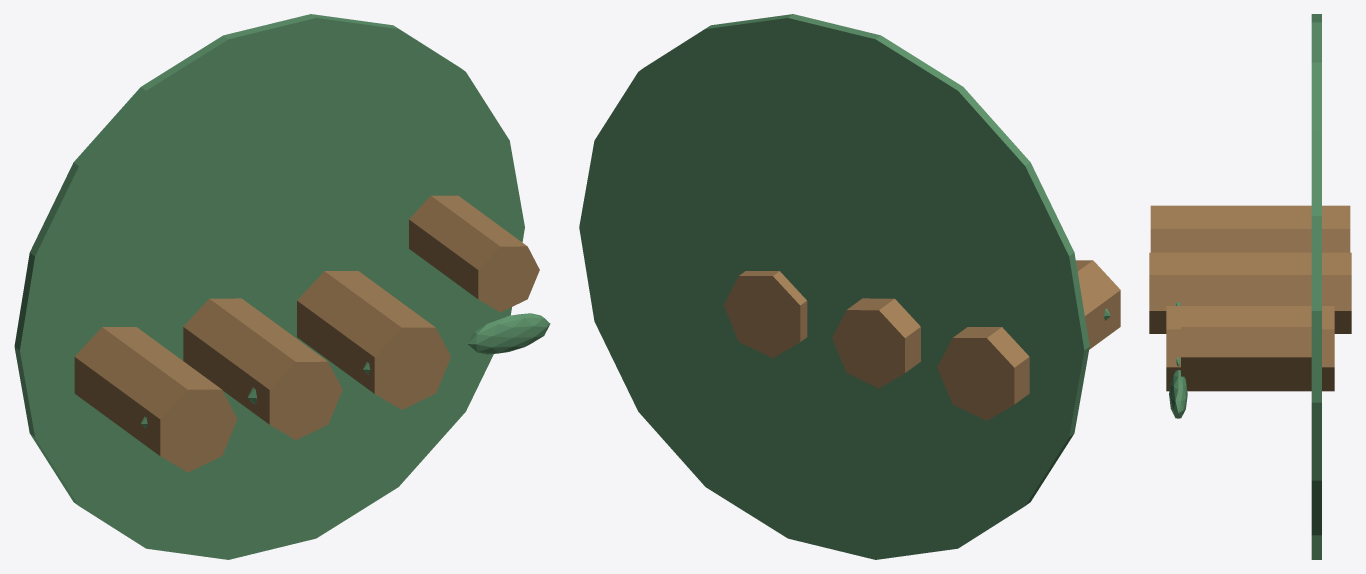
The model's file is 02_display_prop_cluster.glb.
The picture shows the model from 3 angles, left to right: view 1: azimuth 30°, elevation 25°; view 2: azimuth 150°, elevation 25°; view 3: azimuth 270°, elevation 25°; orthographic projection. The views are drawn at different scales.
Visible parts, largest first — view 1: scatter_base, root_stump_0, root_stump_1, root_stump_2, root_stump_3, moss_3; view 2: scatter_base, root_stump_0, root_stump_1, root_stump_2; view 3: root_stump_1, root_stump_0, root_stump_3, scatter_base, root_stump_2, moss_3.
Part boxes in pixels (bbox=[...]): scatter_base: bbox=[14, 14, 524, 559]; root_stump_0: bbox=[74, 327, 237, 472]; root_stump_1: bbox=[183, 298, 342, 439]; root_stump_2: bbox=[297, 271, 450, 409]; root_stump_3: bbox=[409, 195, 539, 312]; moss_3: bbox=[468, 313, 550, 354]; scatter_base: bbox=[579, 14, 1089, 559]; root_stump_0: bbox=[937, 260, 1120, 420]; root_stump_1: bbox=[832, 298, 920, 388]; root_stump_2: bbox=[723, 271, 807, 358]; root_stump_1: bbox=[1149, 252, 1351, 333]; root_stump_0: bbox=[1150, 205, 1350, 252]; root_stump_3: bbox=[1181, 308, 1311, 376]; scatter_base: bbox=[1311, 14, 1321, 559]; root_stump_2: bbox=[1166, 306, 1334, 391]; moss_3: bbox=[1169, 370, 1187, 418].
Bounding box in the file's own units: 1.9 × 1.87 × 0.7021.
